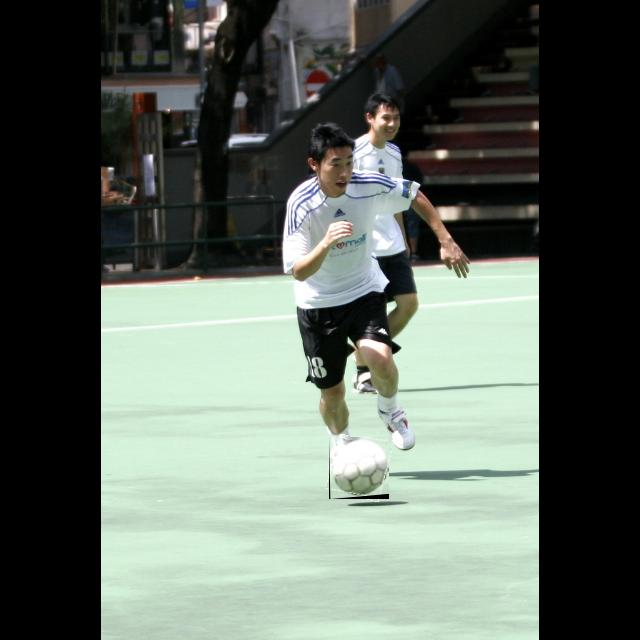Football: (329, 437, 389, 499)
